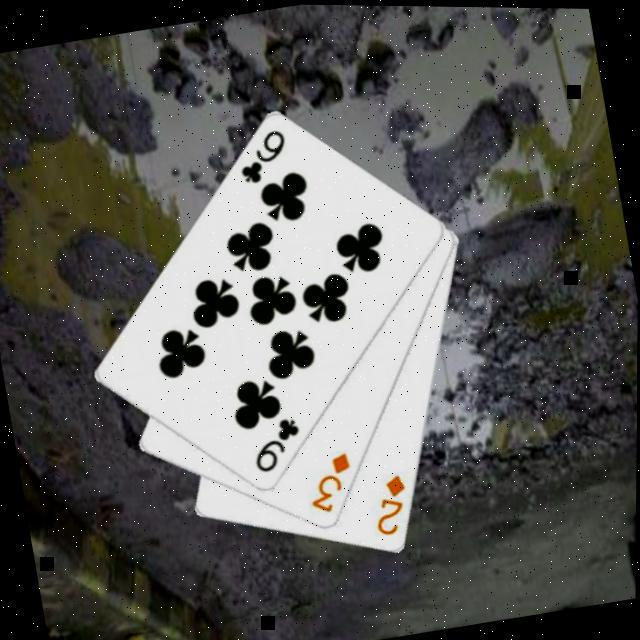2D: (366, 469, 417, 541)
3D: (301, 447, 363, 519)
9C: (246, 411, 311, 478), (231, 124, 296, 190)
